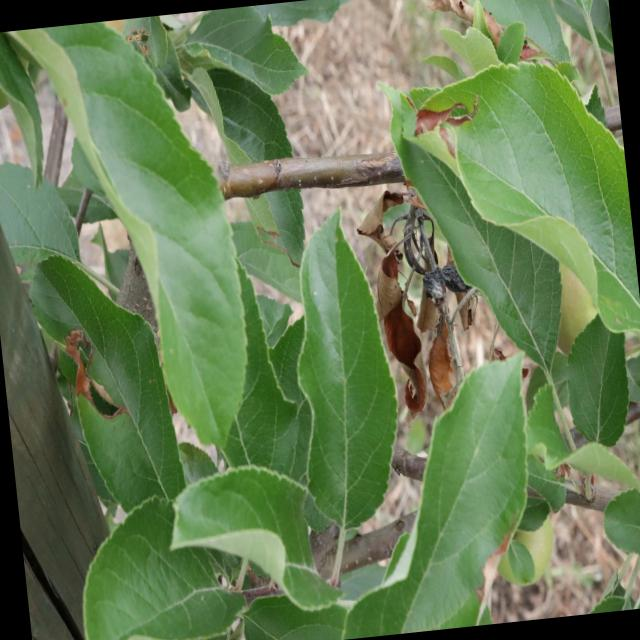-FireBlight-: (359, 193, 497, 397)
